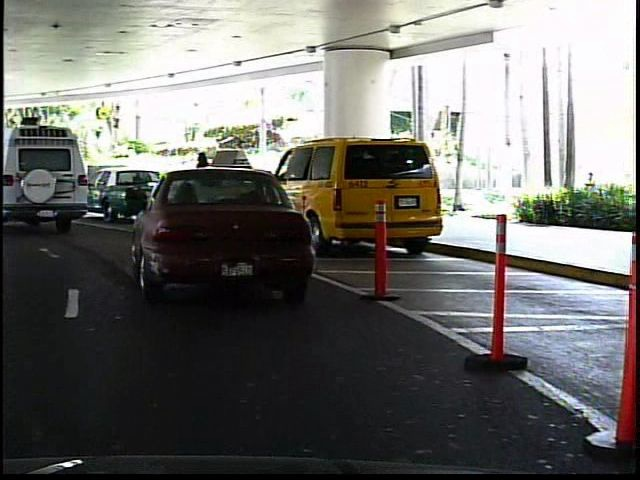person: (189, 146, 218, 214), (225, 142, 252, 212), (70, 151, 92, 200), (8, 158, 28, 197)
